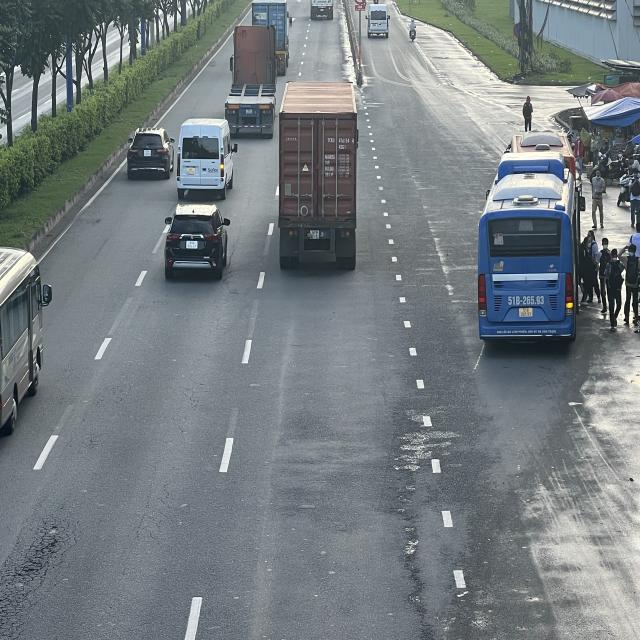car: (165, 202, 232, 277), (126, 126, 175, 180)
coach: (479, 142, 580, 343), (0, 246, 54, 425)
container: (277, 79, 357, 268), (224, 22, 276, 137), (254, 0, 293, 71)
van: (177, 118, 238, 198), (368, 5, 391, 40)
